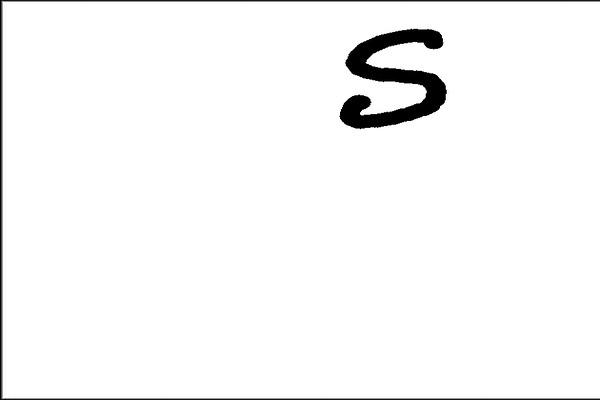S: (332, 21, 452, 134)
